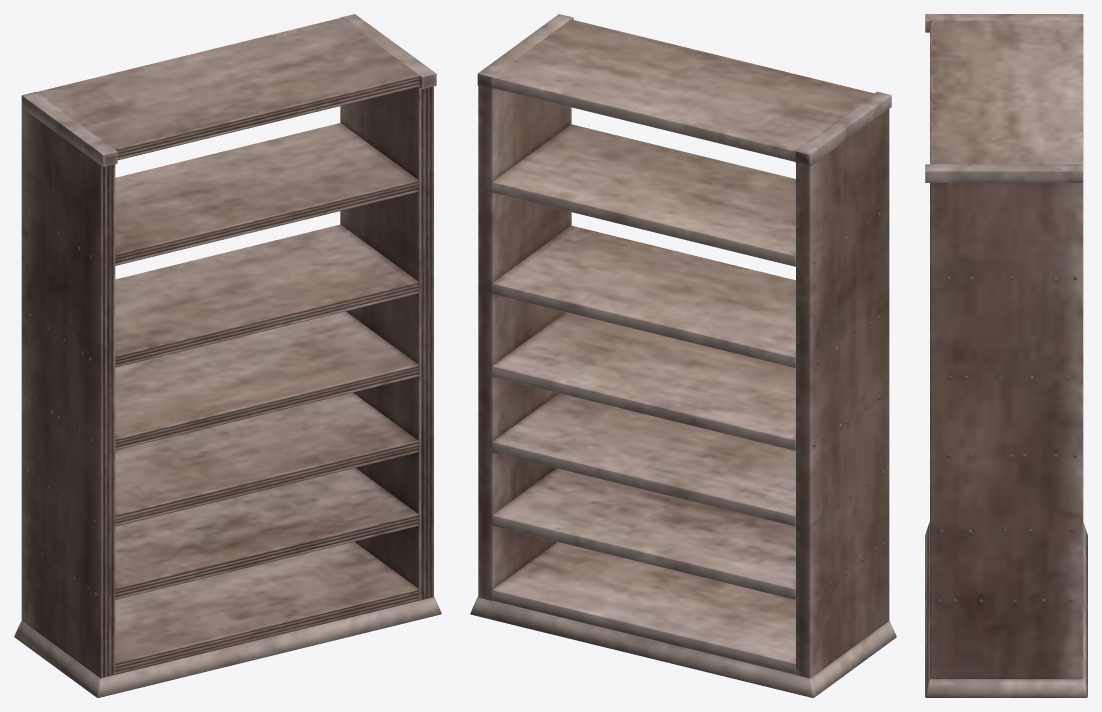
The model's file is bookshelf.glb.
The picture shows the model from 3 angles, left to right: view 1: azimuth 30°, elevation 25°; view 2: azimuth 150°, elevation 25°; view 3: azimuth 270°, elevation 25°; orthographic projection. The views are drawn at different scales.
Parts seen in each view (by area): view 1: wooden_bookshelf_worn; view 2: wooden_bookshelf_worn; view 3: wooden_bookshelf_worn.
Part boxes in pixels (x1,y1,x2,y2): wooden_bookshelf_worn: (14,14,441,697); wooden_bookshelf_worn: (470,14,896,697); wooden_bookshelf_worn: (925,14,1087,697).
Bounding box in the file's own units: 1.37 × 2.06 × 0.5814.
1 material, 1 textured.
